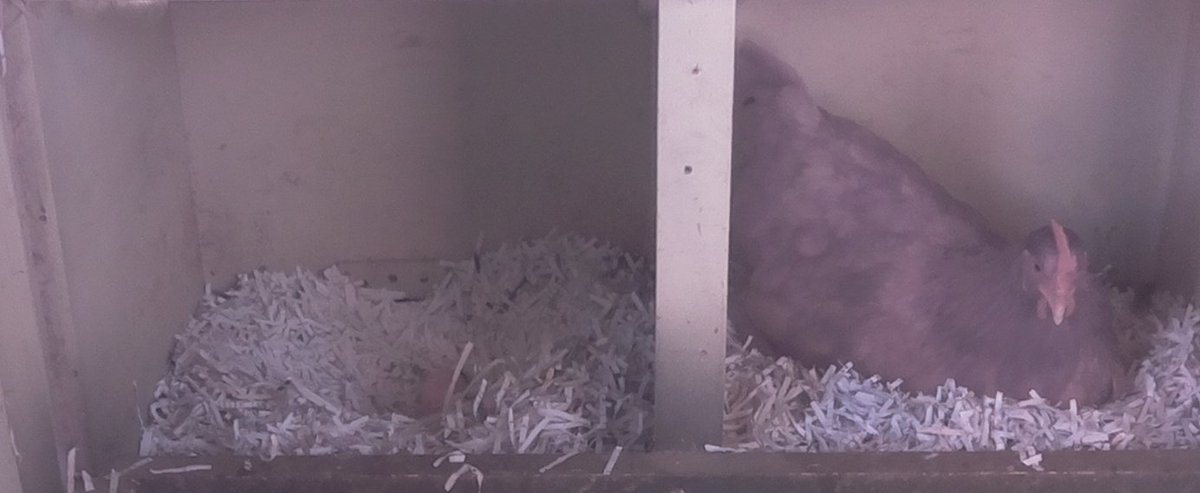hen: (734, 39, 1136, 417)
